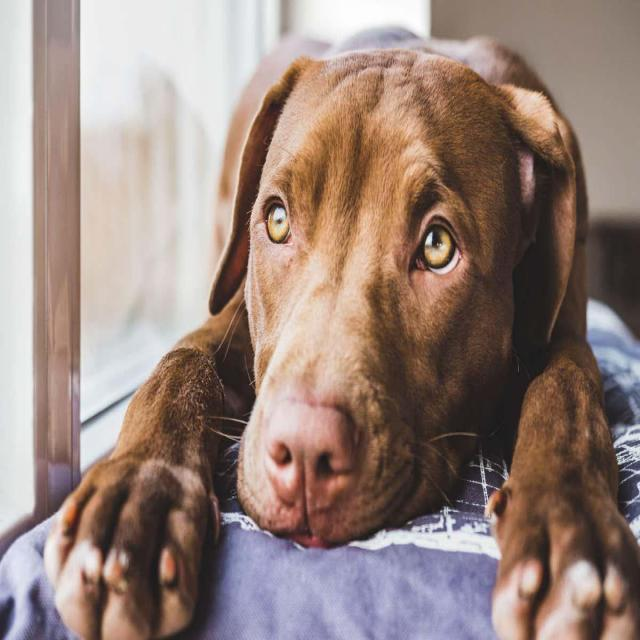Dog: (203, 41, 585, 562)
